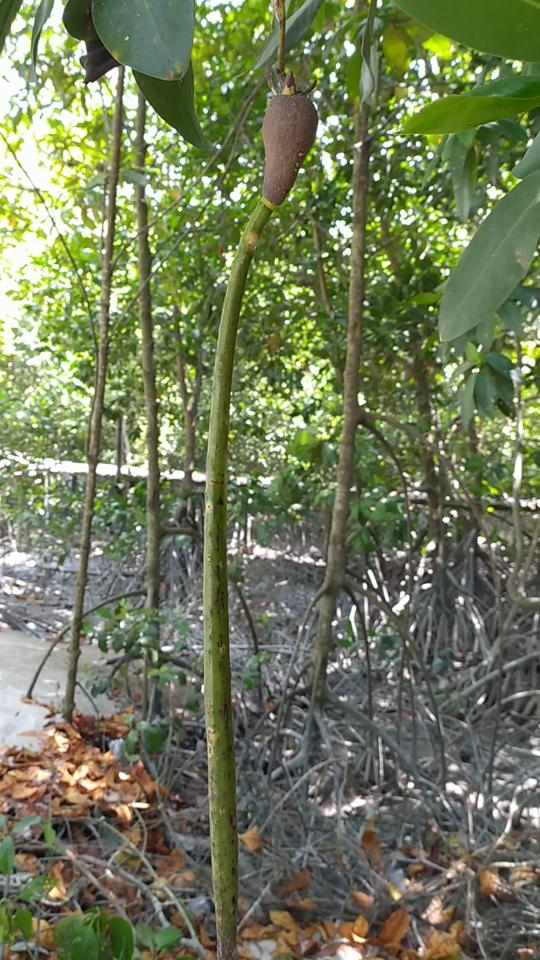setengah matang: (202, 67, 331, 956)
